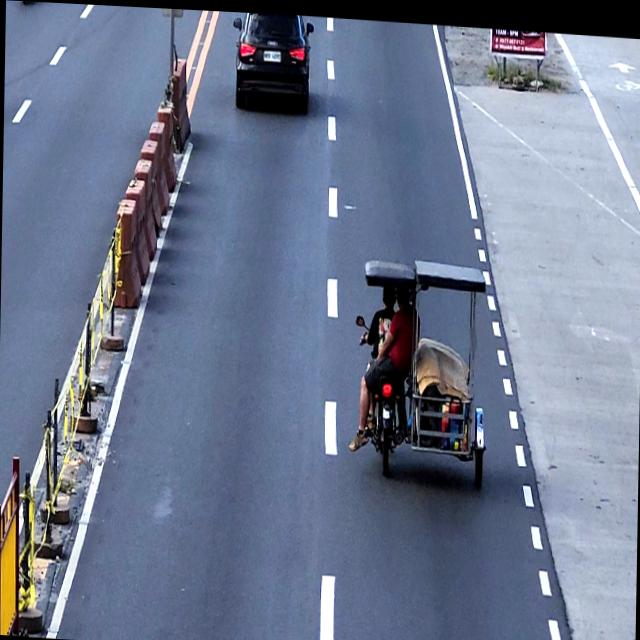Car: (231, 9, 314, 110)
License-Plate: (264, 47, 280, 59)
Tricycle: (352, 251, 490, 488)
